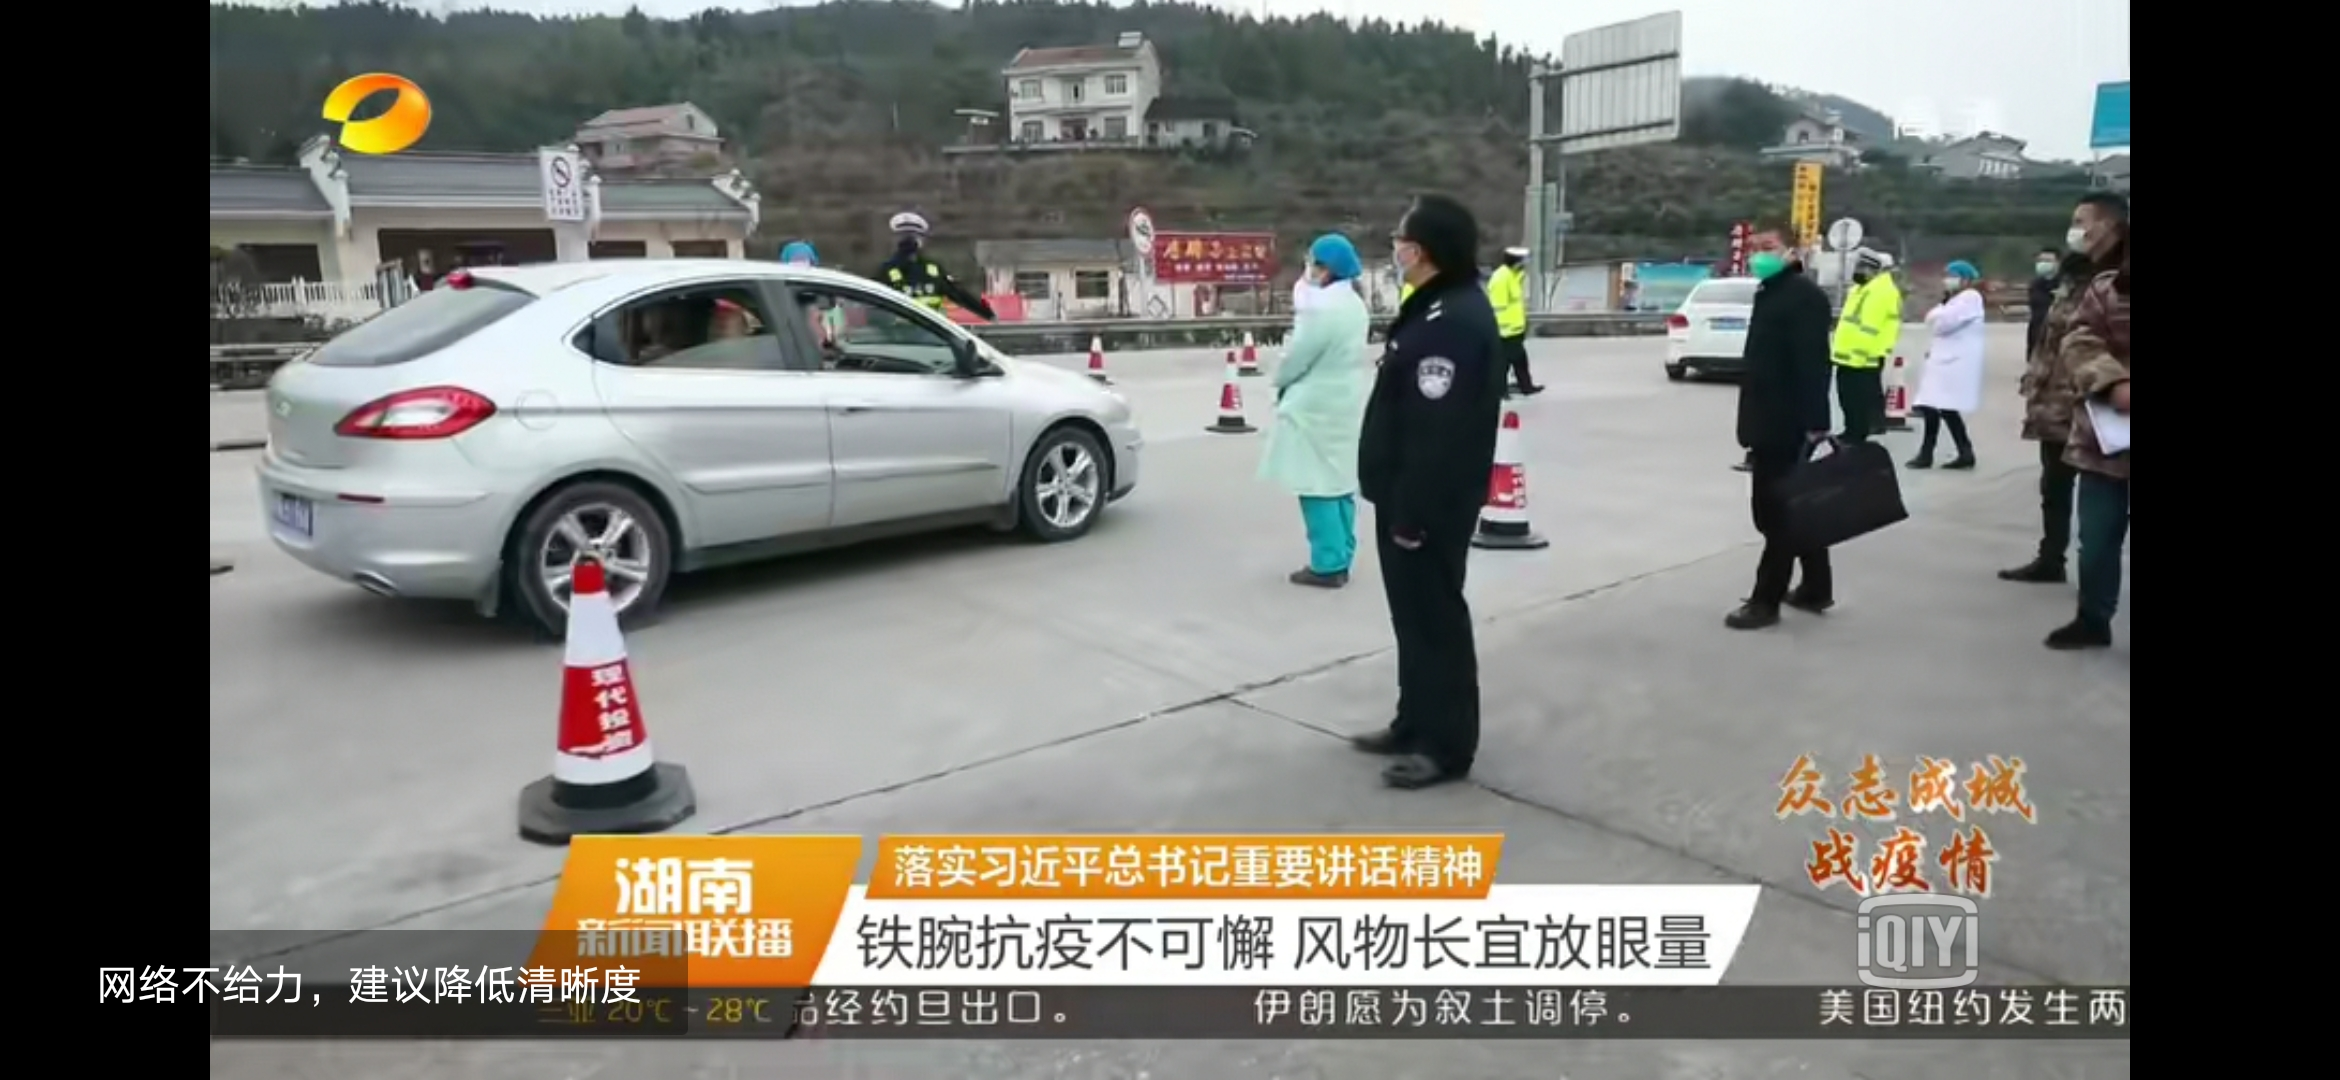correctlyWear: (1392, 216, 1430, 280), (1748, 236, 1795, 282), (2065, 213, 2110, 258), (1303, 249, 1333, 288), (897, 225, 922, 257), (2034, 255, 2059, 280), (1943, 270, 1967, 297)
